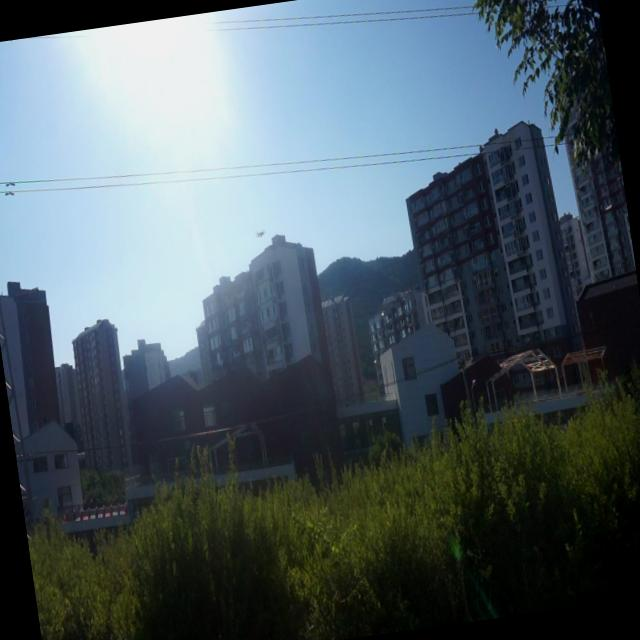drone: (250, 224, 270, 244)
